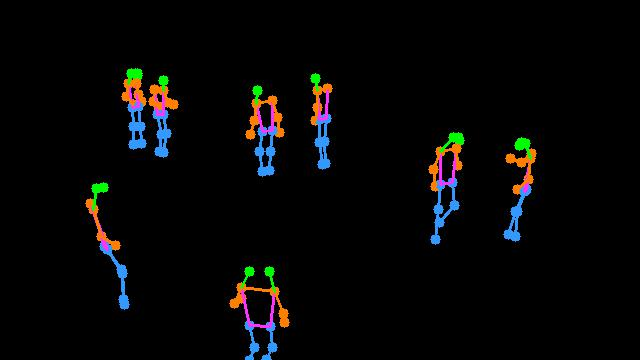normal: (227, 248, 300, 359), (148, 69, 183, 159), (123, 65, 148, 154)
